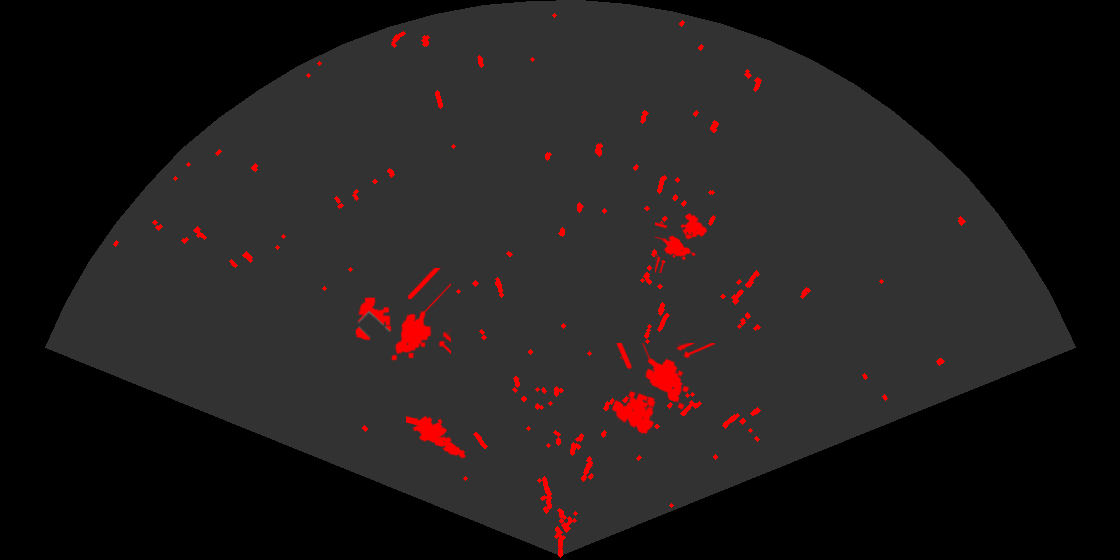cage: (610, 343, 715, 436), (354, 268, 451, 362), (655, 211, 709, 273)
frogman: (406, 414, 467, 460)
